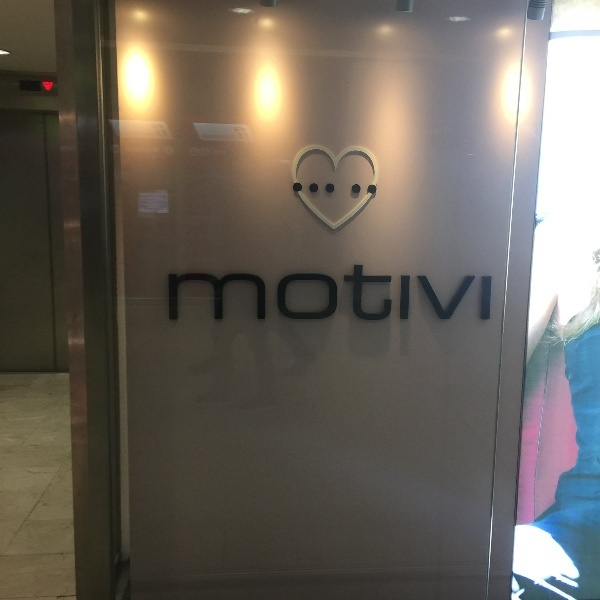text: (177, 265, 192, 324), (193, 265, 208, 324), (209, 265, 224, 324), (225, 265, 240, 324), (241, 265, 256, 324), (257, 265, 272, 324), (273, 265, 288, 324), (289, 265, 304, 324), (305, 265, 320, 324), (321, 265, 336, 324), (337, 265, 352, 324), (353, 265, 368, 324), (369, 265, 384, 324), (385, 265, 400, 324), (401, 265, 416, 324), (417, 265, 432, 324), (433, 265, 448, 324), (449, 265, 464, 324), (465, 265, 480, 324), (481, 265, 493, 324), (169, 265, 176, 324)
